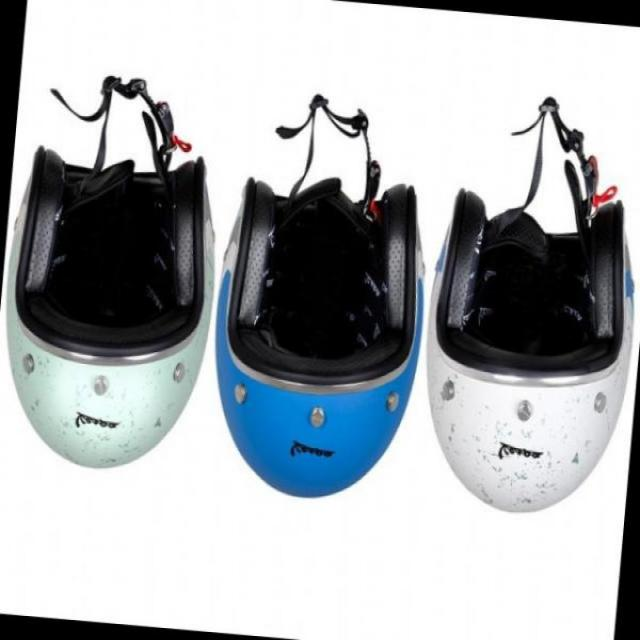Helmet: (434, 95, 640, 512), (226, 91, 426, 511), (19, 82, 218, 460)
